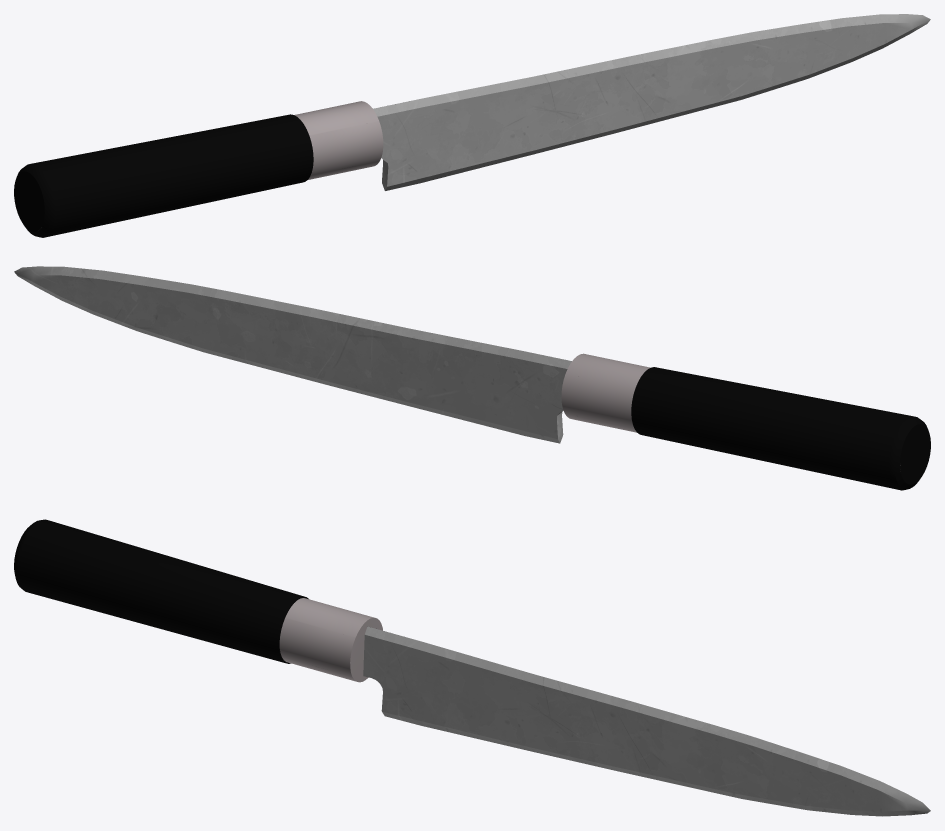
The model's file is knife.fbx.
3 views of the same model, one above another, from view 1: azimuth 30°, elevation 25°; view 2: azimuth 150°, elevation 25°; view 3: azimuth 330°, elevation 25° (orthographic).
Parts seen in each view (by area): view 1: knife; view 2: knife; view 3: knife.
Part boxes in pixels (box(x1,y1,x2,y2)): knife: box(14, 14, 930, 237); knife: box(14, 266, 930, 490); knife: box(14, 519, 930, 816).
Size of the model in its own units: 501 by 58.39 by 36.21.
